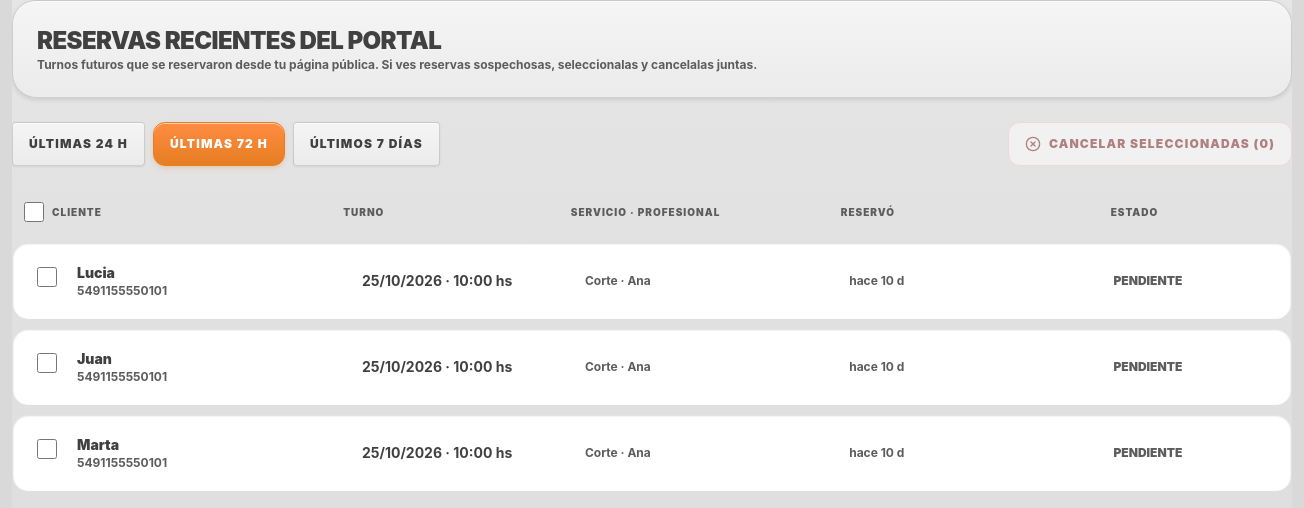
it: PortalBookingsContainer › cambiar la ventana pide otra lista y limpia la seleccion
The image size is (1304, 508).
Click the checkbox named "Seleccionar a Lucia, 25/10/2026 · 10:00 hs" at (47, 277), box [37,267,57,287]
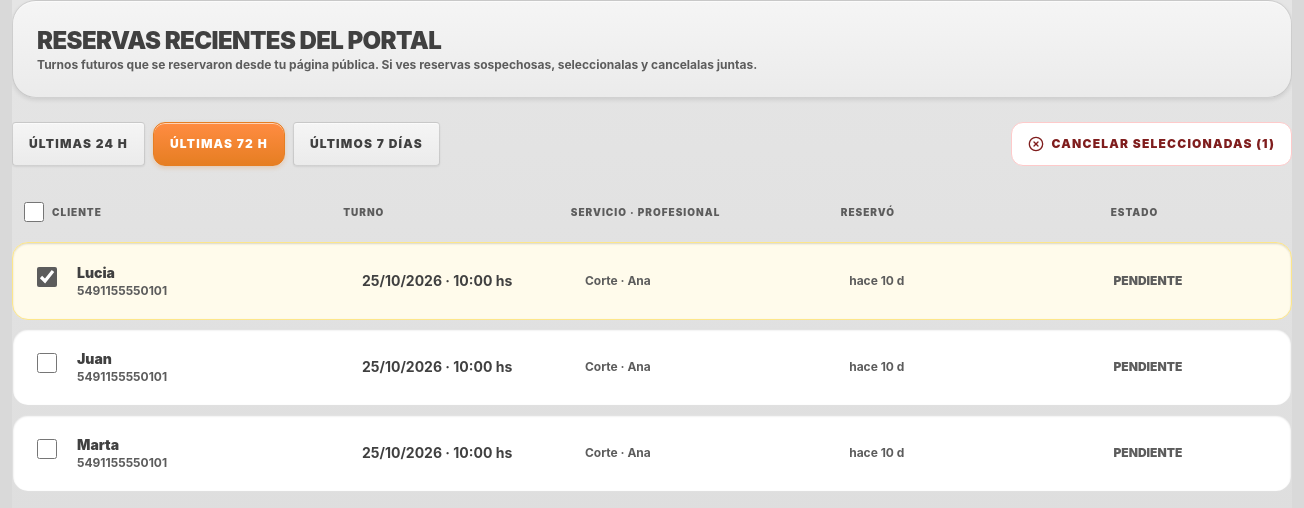
Expected: the button "Cancelar seleccionadas (1)" is enabled, [1011,122,1292,166]
Click the button "Últimos 7 días" at (366, 144), box [293,122,440,166]
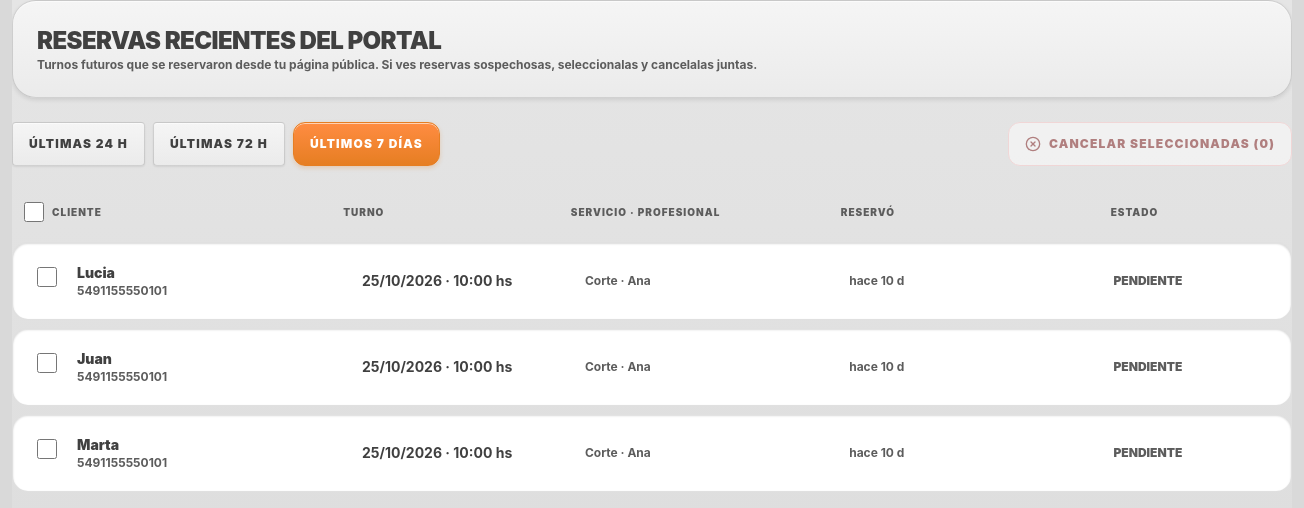
Expected: the button "Cancelar seleccionadas (0)" is disabled, [1008,122,1292,166]
